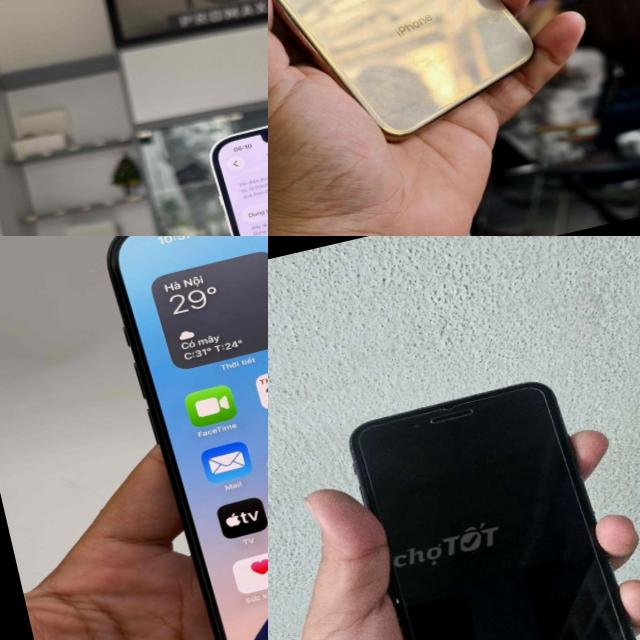scratch: (361, 378, 539, 430), (339, 427, 372, 506), (388, 592, 400, 606)
